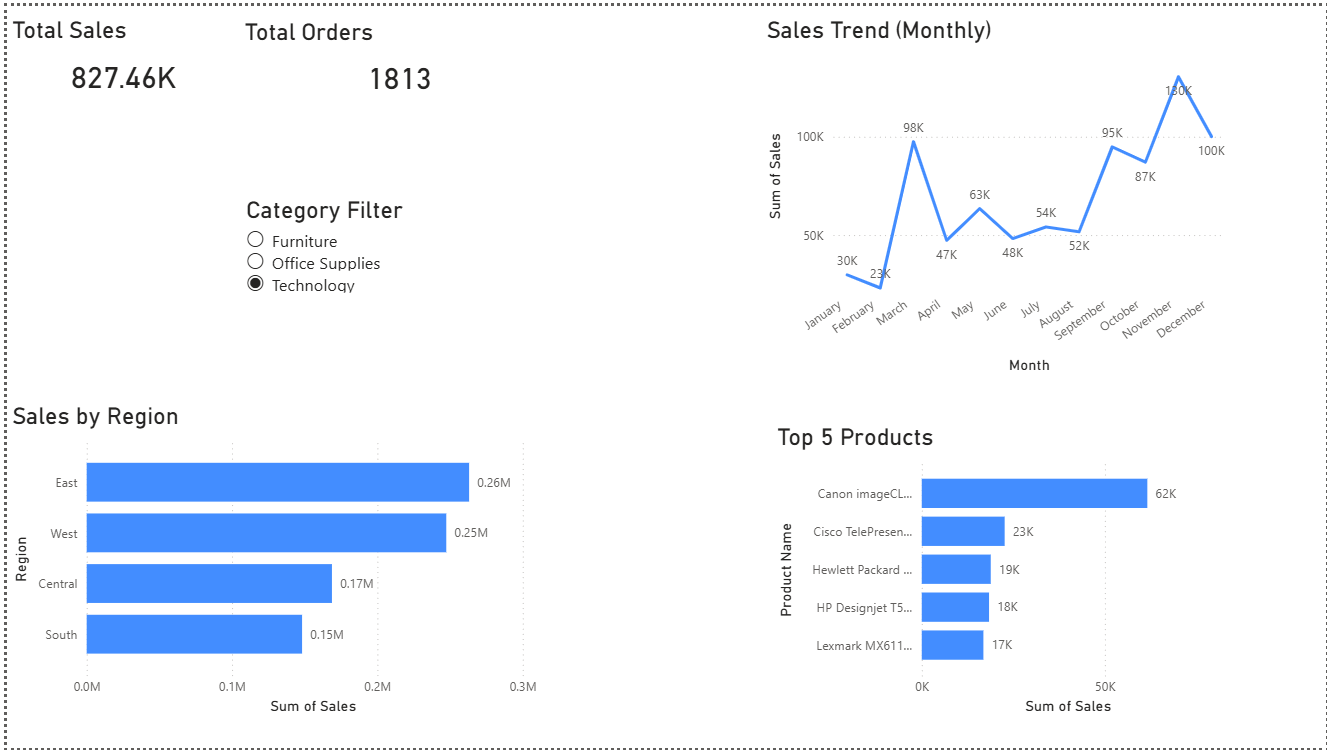

This screenshot's page, from the dashboard's own definition file:
{"tool":"powerbi","page":{"name":"Overview Dashboard","canvas":[1280,720],"ordinal":0},"visuals":[{"type":"card","title":"Total Sales","fields":{"Values":["Sum(train.Sales)"]},"box":[0,10.1,225.5,89],"z":0},{"type":"card","title":"Total Orders","fields":{"Values":["CountNonNull(train.Order ID)"]},"box":[225.5,11.5,310.2,87.6],"z":1000},{"type":"lineChart","title":"Sales Trend (Monthly)","fields":{"Category":["train.Order Date.Variation.Date Hierarchy.Month"],"Y":["Sum(train.Sales)"]},"box":[732.9,10,454.3,350],"z":2000},{"type":"clusteredBarChart","title":"Sales by Region","fields":{"Category":["train.Region"],"Y":["Sum(train.Sales)"]},"box":[0,384.3,535.7,307.1],"z":3000},{"type":"clusteredBarChart","title":"Top 5 Products","fields":{"Category":["train.Product Name"],"Y":["Sum(train.Sales)"]},"box":[742.9,404.3,444.3,287.1],"z":4000},{"type":"listSlicer","title":"Category Filter","fields":{"Values":["train.Category"]},"box":[227.1,184.3,412.9,210],"z":5000}]}

Visuals, with their boxes in screenshot pixels (x1, y1, x2, y2), scaled from the page's 1280x720 canvas onto the 1327x750 screenshot:
"Total Sales" card: l=0, t=11, r=234, b=103
"Total Orders" card: l=234, t=12, r=555, b=103
"Sales Trend (Monthly)" lineChart: l=760, t=10, r=1231, b=375
"Sales by Region" clusteredBarChart: l=0, t=400, r=555, b=720
"Top 5 Products" clusteredBarChart: l=770, t=421, r=1231, b=720
"Category Filter" listSlicer: l=235, t=192, r=664, b=411
